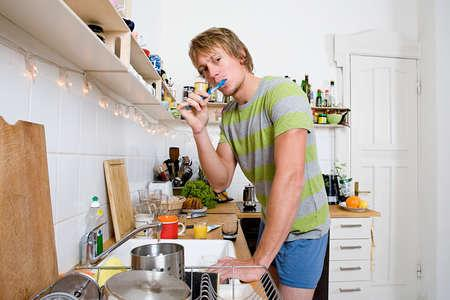person: (178, 26, 333, 300)
